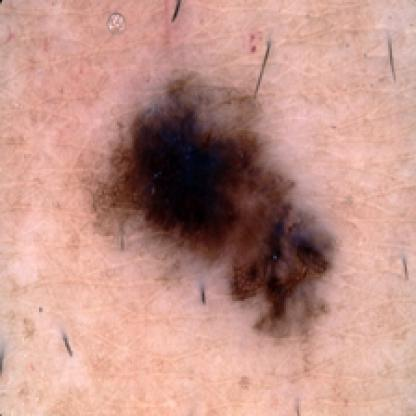malignant: (121, 102, 338, 325)
